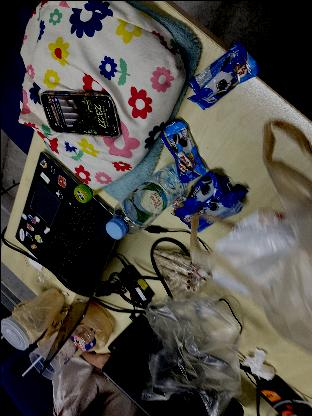Others: (187, 112, 312, 360), (144, 294, 240, 416), (205, 210, 297, 296), (187, 44, 259, 110), (174, 172, 244, 234), (11, 286, 64, 344), (160, 118, 206, 182), (22, 330, 72, 379), (66, 303, 109, 357), (239, 345, 277, 379), (1, 313, 27, 353), (18, 354, 44, 378), (28, 266, 54, 286), (26, 252, 43, 270)
Plastic Bottle: (104, 160, 184, 240)
